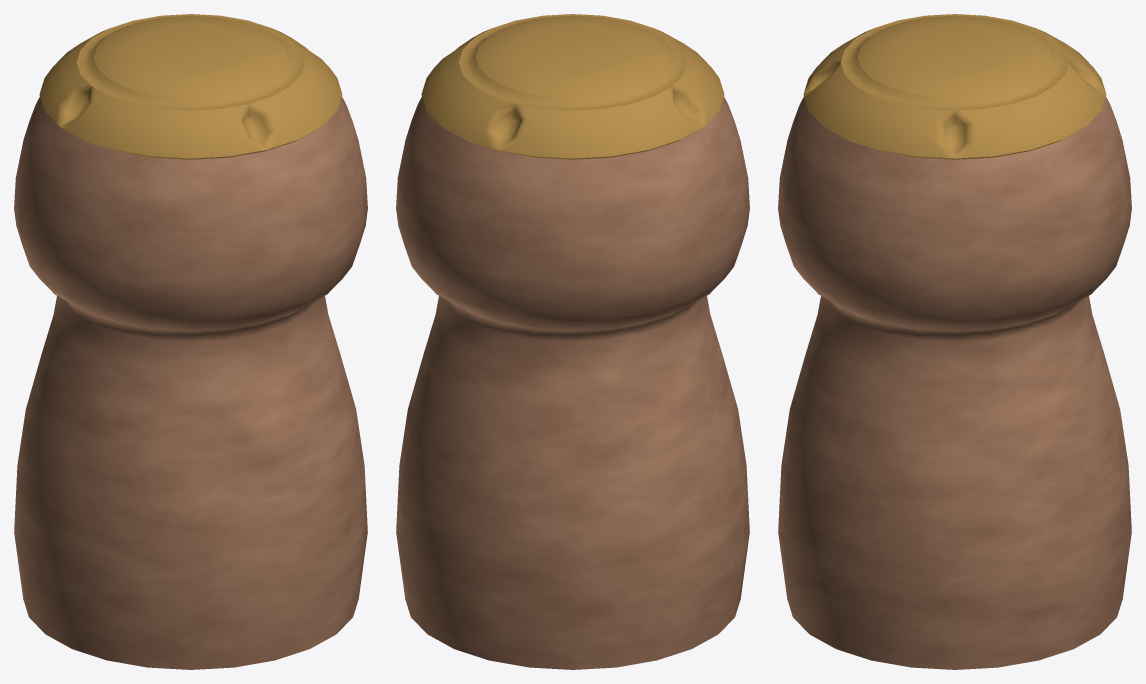
File: OT_185_champagne_cork.glb
3 renders of one model, left to right at view 1: azimuth 30°, elevation 25°; view 2: azimuth 150°, elevation 25°; view 3: azimuth 270°, elevation 25°, orthographic.
Visible parts, largest first — view 1: cork; view 2: cork; view 3: cork.
Boxes of the visible parts, x1,y1,x2,y2 form: cork: [14, 14, 367, 669]; cork: [396, 14, 749, 669]; cork: [778, 14, 1131, 669].
Bounding box in the file's own units: 0.7484 × 1.29 × 0.7484.
Materials: 2 (1 with a texture image).
